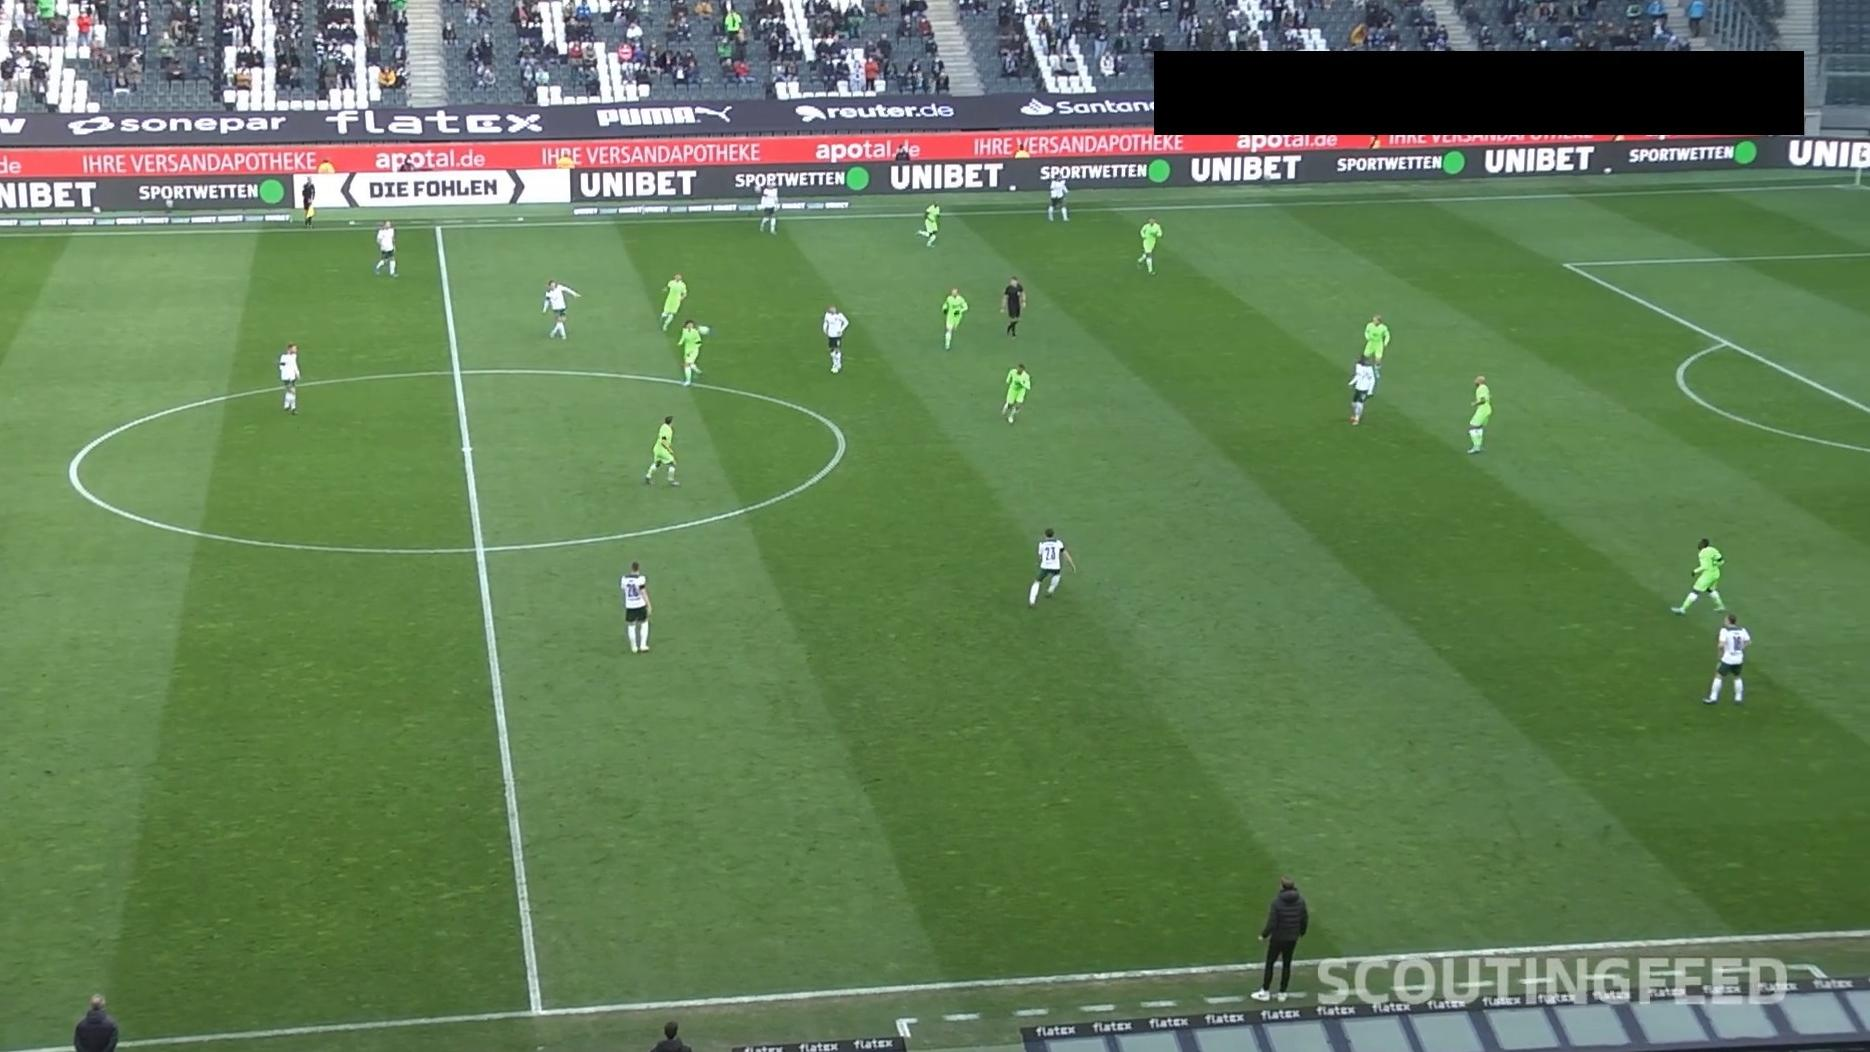ball: (697, 324, 712, 337)
